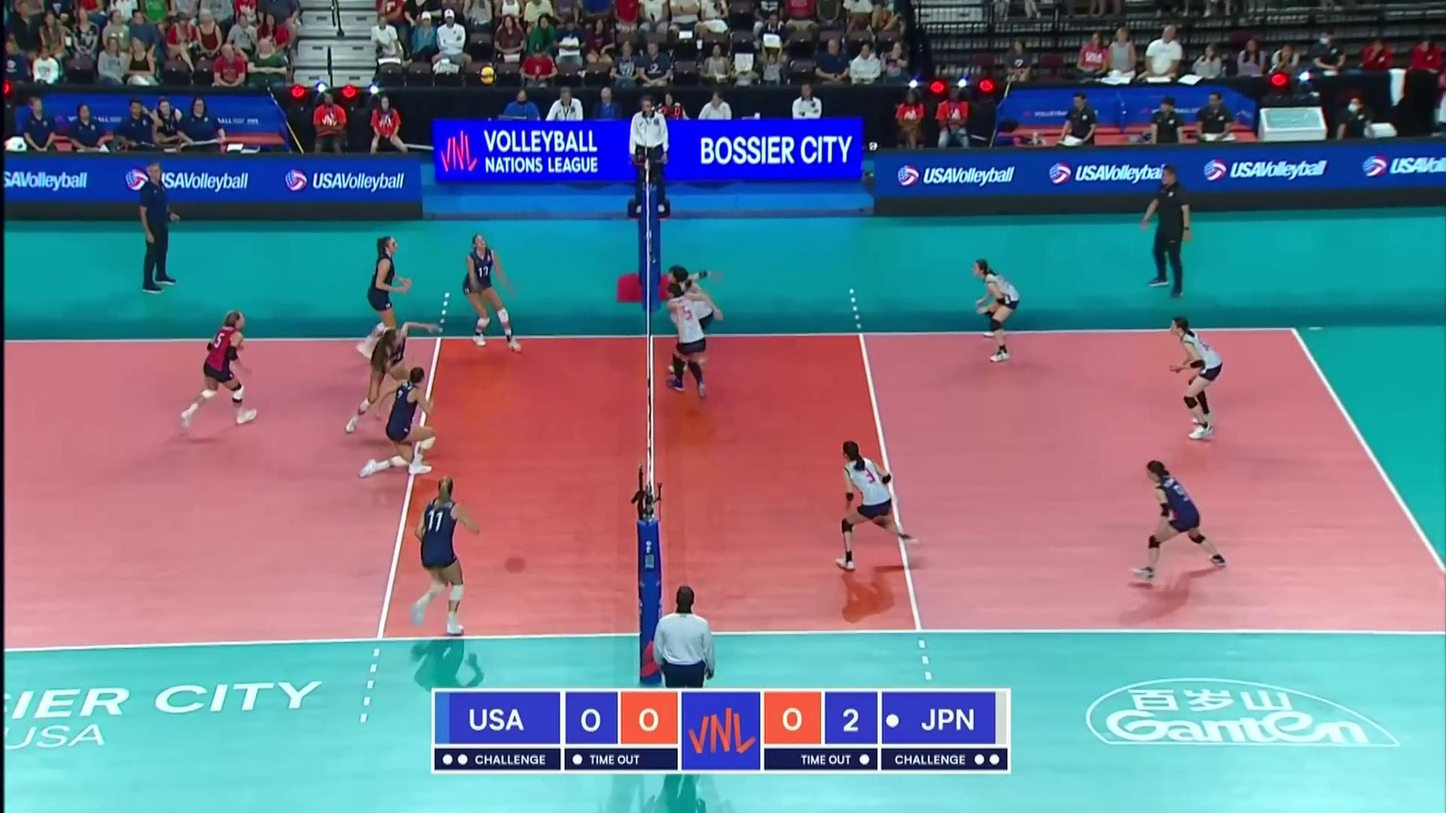player: (827, 443, 919, 571), (1129, 464, 1225, 586), (410, 473, 480, 633), (180, 308, 262, 429), (367, 367, 443, 484), (346, 328, 421, 436), (1165, 317, 1227, 442), (461, 237, 524, 356), (663, 280, 712, 408), (363, 233, 409, 362), (973, 260, 1026, 364), (669, 267, 715, 373)
refree: (649, 586, 719, 688), (624, 91, 671, 217)
